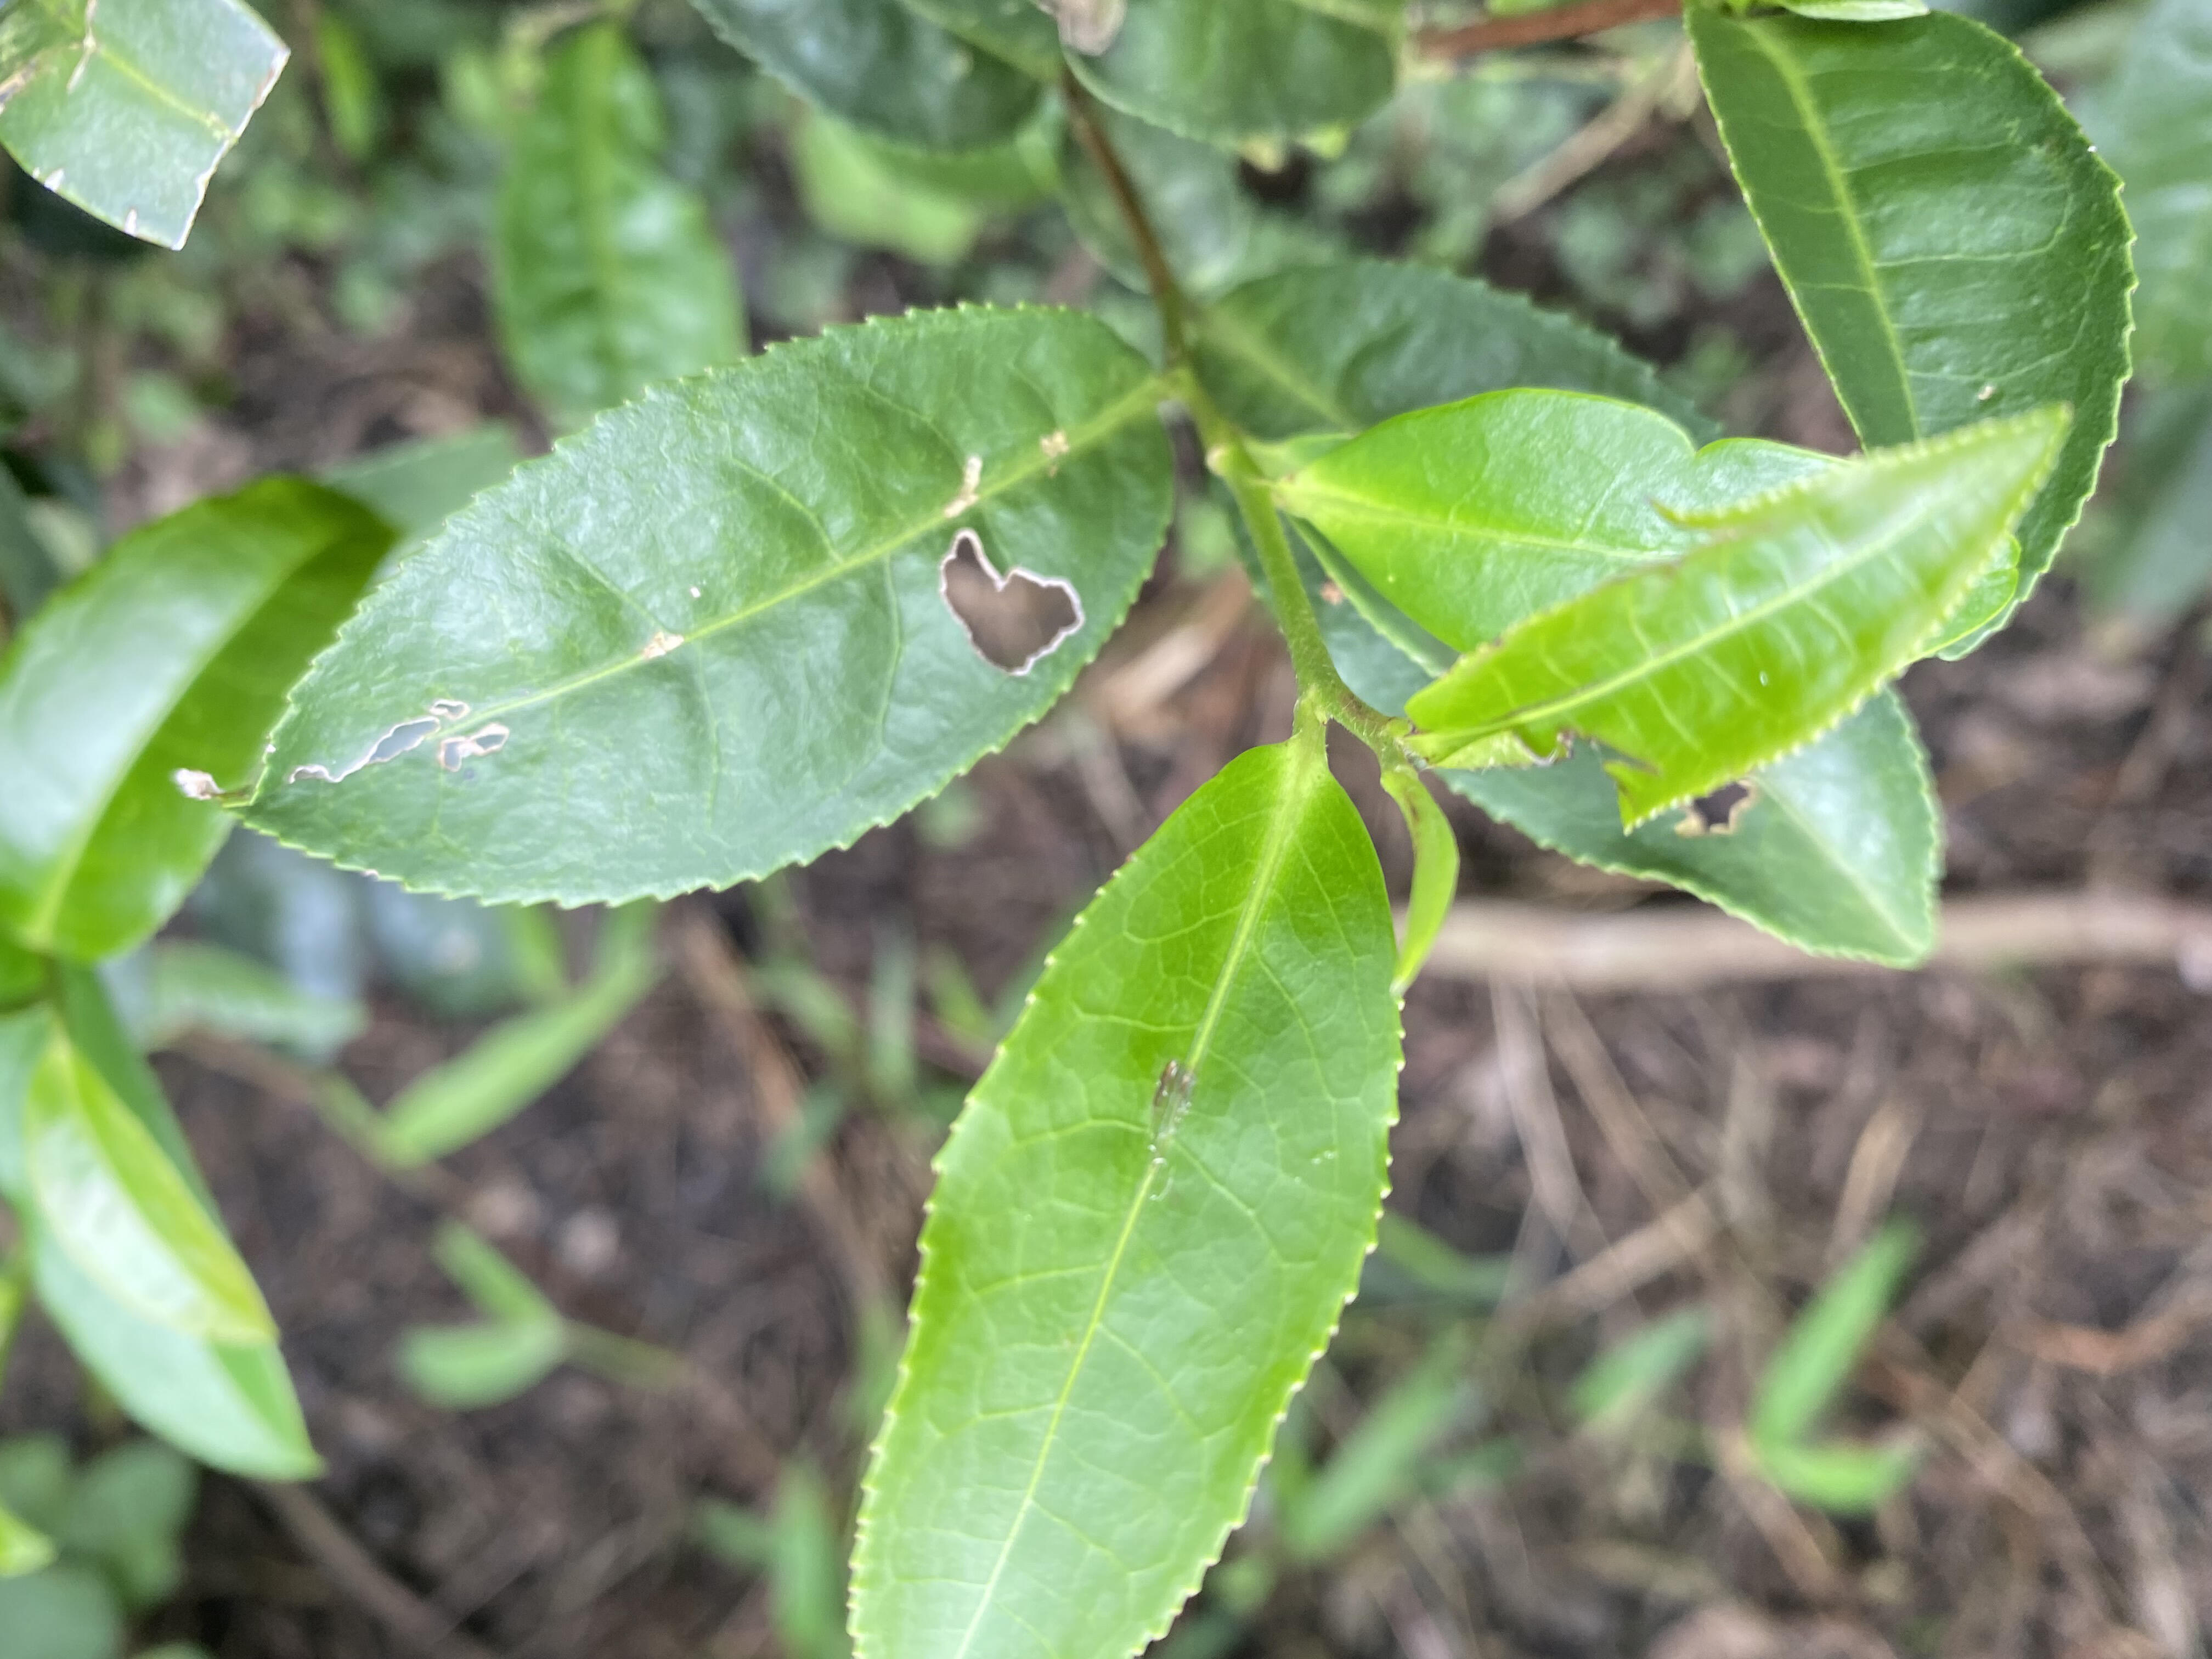chihuo_high: (209, 298, 1181, 906), (1406, 403, 2069, 843)
healthy: (1684, 5, 2141, 659)
tanju_low: (836, 742, 1413, 1657)
